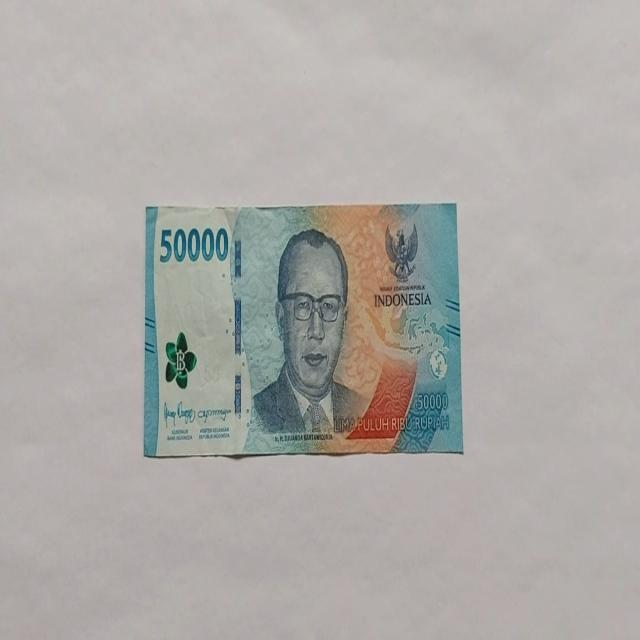lima puluh ribu rupiah: (143, 200, 463, 460), (249, 227, 372, 440)
